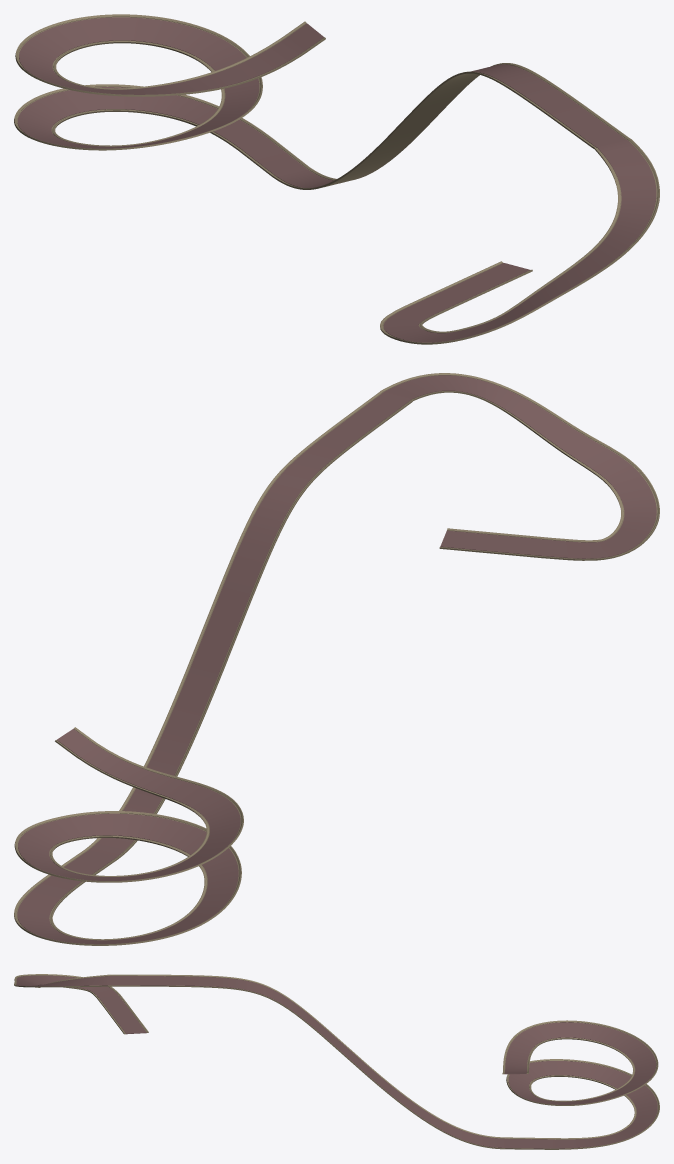
The model's file is Abschnitt1.fbx.
3 renders of one model, top to bottom at view 1: azimuth 30°, elevation 25°; view 2: azimuth 150°, elevation 25°; view 3: azimuth 270°, elevation 25°, orthographic. The views are drawn at different scales.
Visible parts, largest first — view 1: StrasseStart; view 2: StrasseStart; view 3: StrasseStart.
Part boxes in pixels (x1=…): StrasseStart: x1=14, y1=14, x2=659, y2=344; StrasseStart: x1=14, y1=373, x2=659, y2=945; StrasseStart: x1=14, y1=974, x2=659, y2=1149.
Bounding box in the file's own units: 31724 × 28834 × 102672.
